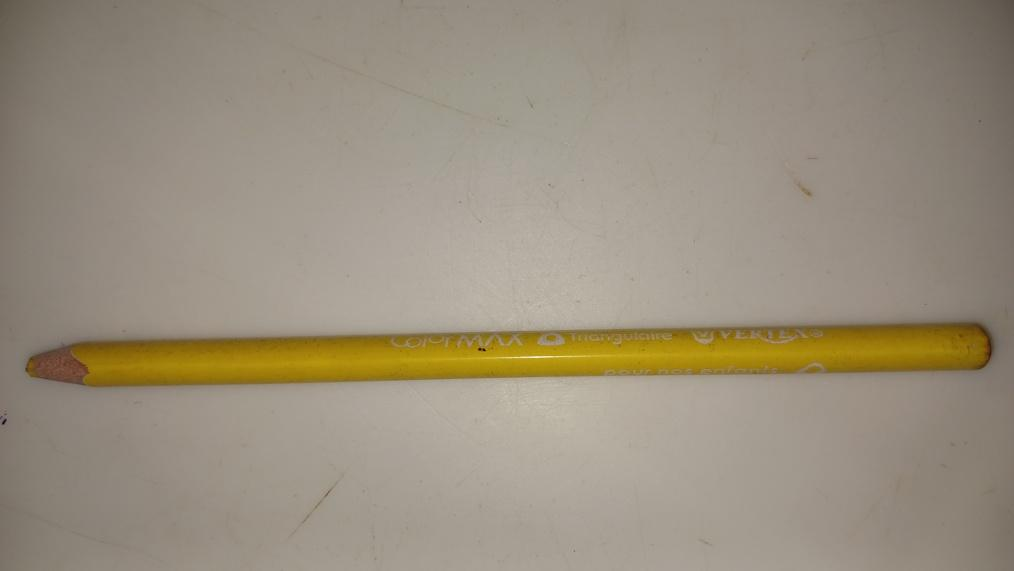Pencil: (23, 329, 1005, 387)
